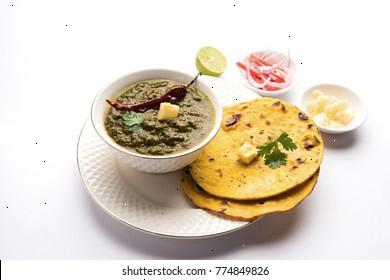saag: (102, 81, 209, 155)
